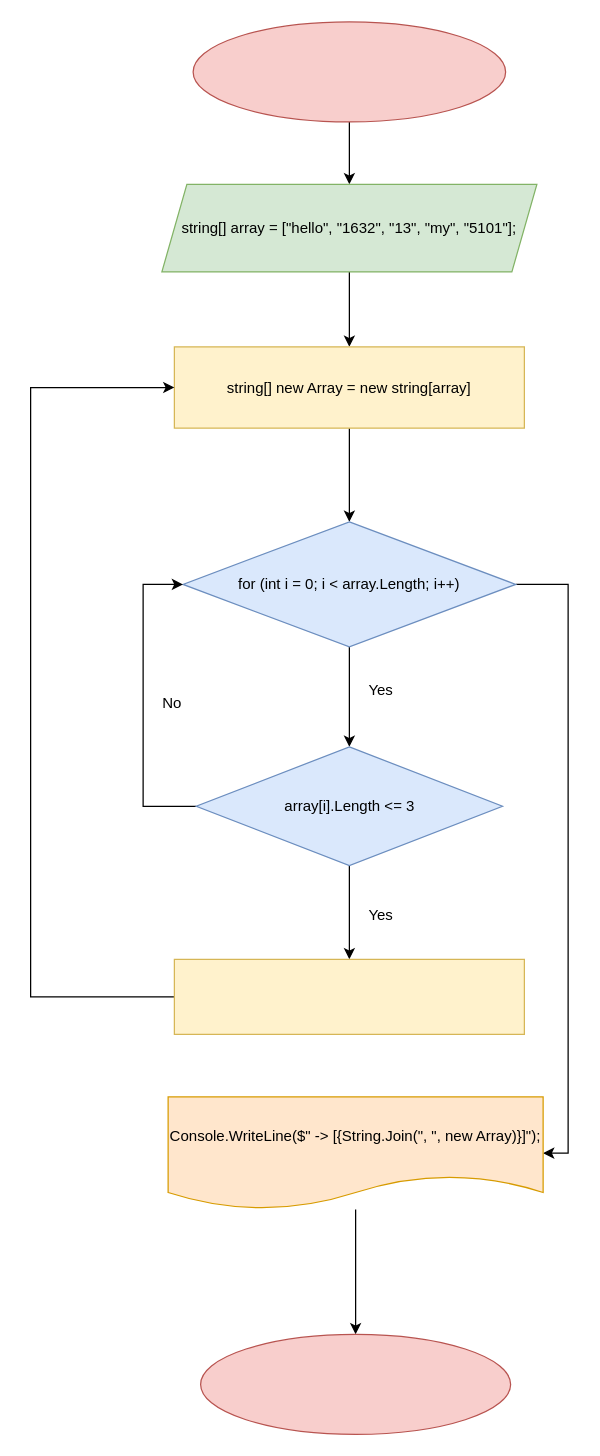
This 600x1456 diagram has some shape labels left out. The centre of each missing label's shape, as x and y in pixels:
"end" belongs at (355,1383).
"new Array[i] = array[i]" belongs at (348,996).
"Start" belongs at (349,71).
